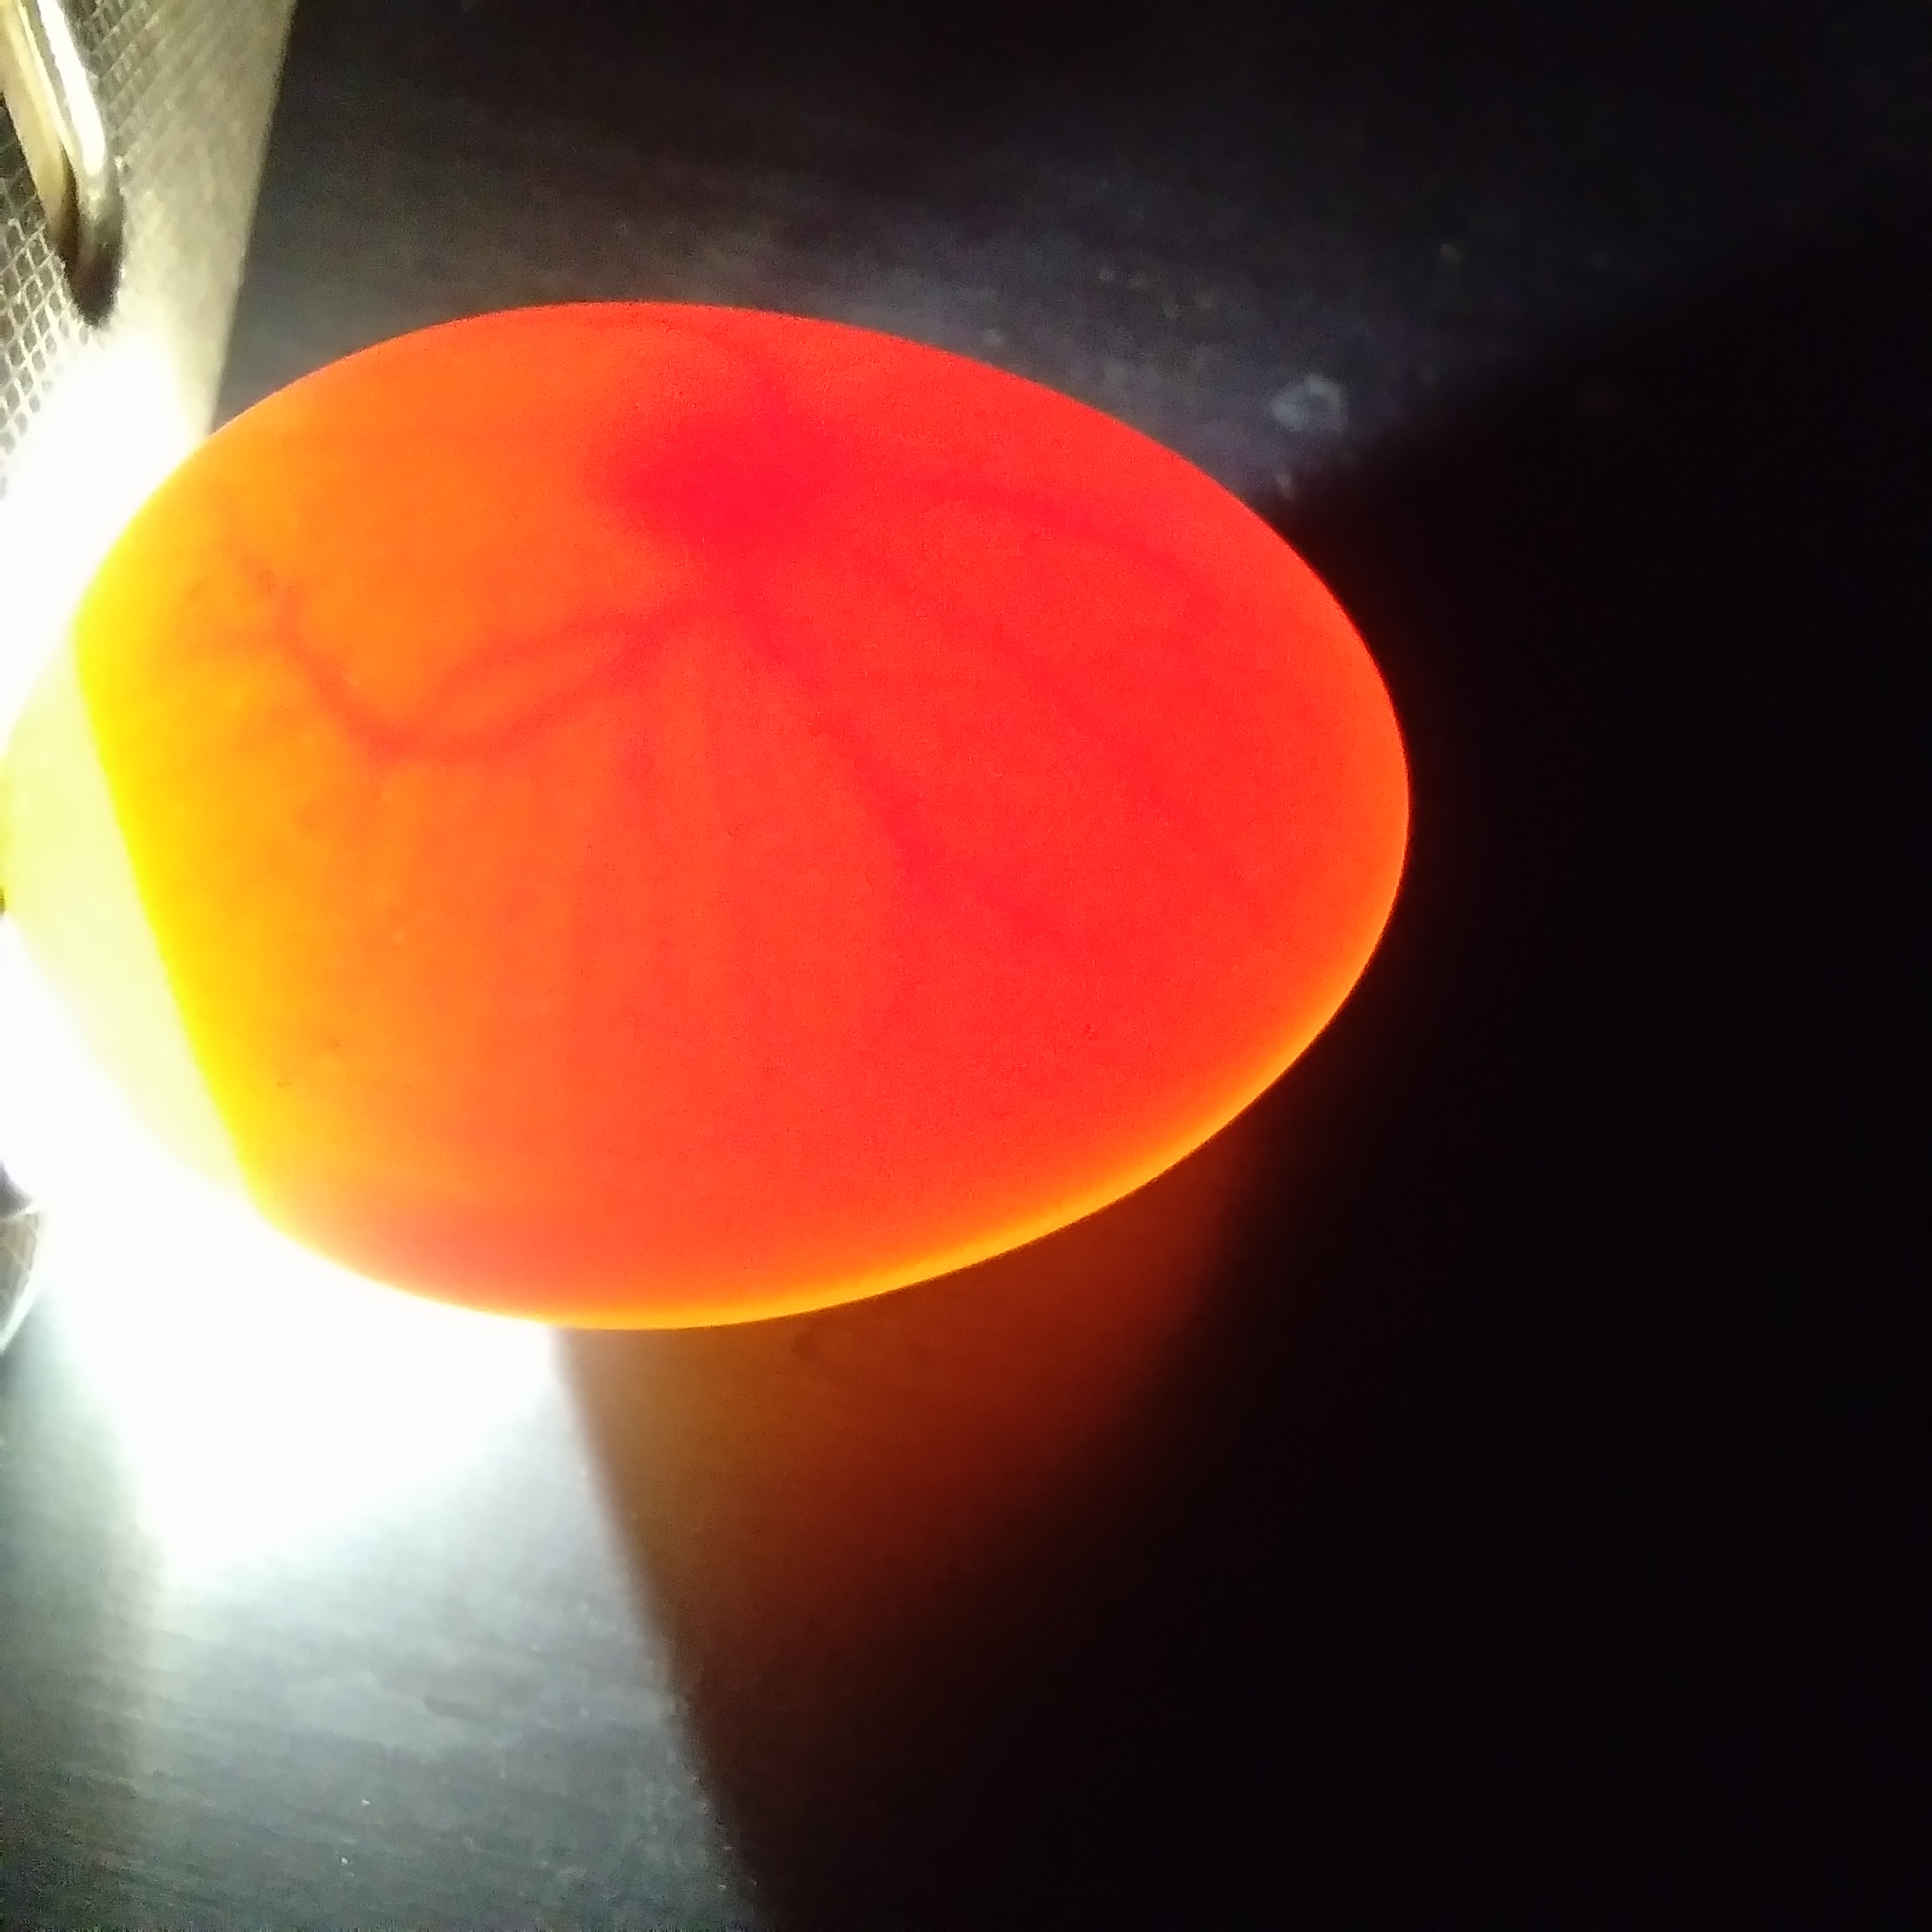bloodcell: (205, 508, 1039, 1097)
